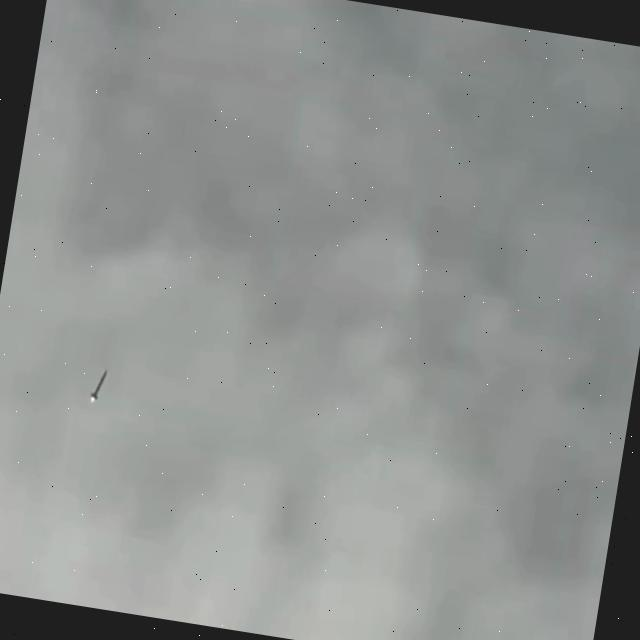rocket: (81, 370, 109, 405)
